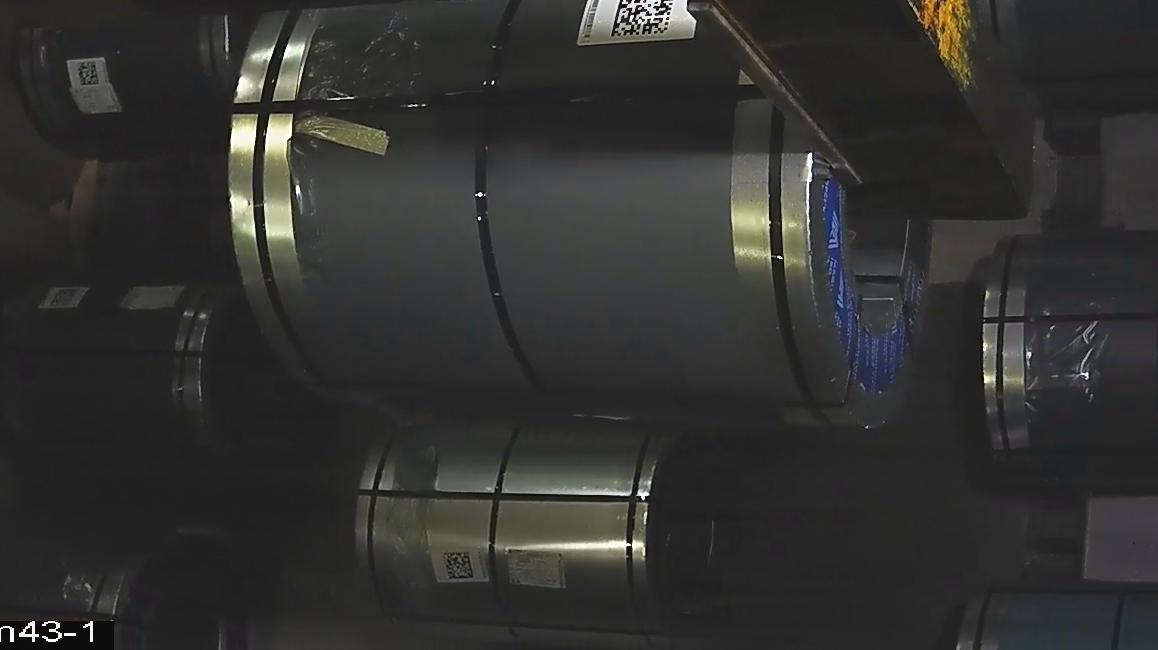data matrix: (610, 1, 680, 41), (442, 550, 477, 583), (74, 60, 103, 89)
